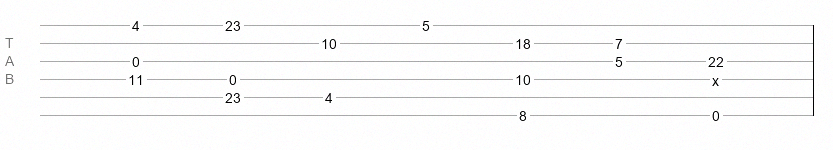0: (132, 54, 140, 64), (229, 72, 237, 82), (712, 108, 720, 118)
10: (321, 36, 337, 46), (515, 72, 531, 82)
11: (128, 72, 144, 82)
18: (515, 36, 531, 46)
22: (708, 54, 724, 64)
23: (225, 90, 241, 100), (225, 18, 241, 28)
4: (132, 18, 140, 28), (325, 90, 333, 100)
5: (422, 18, 430, 28), (615, 54, 623, 64)
7: (615, 36, 623, 46)
8: (519, 108, 527, 118)
x: (712, 73, 719, 81)
